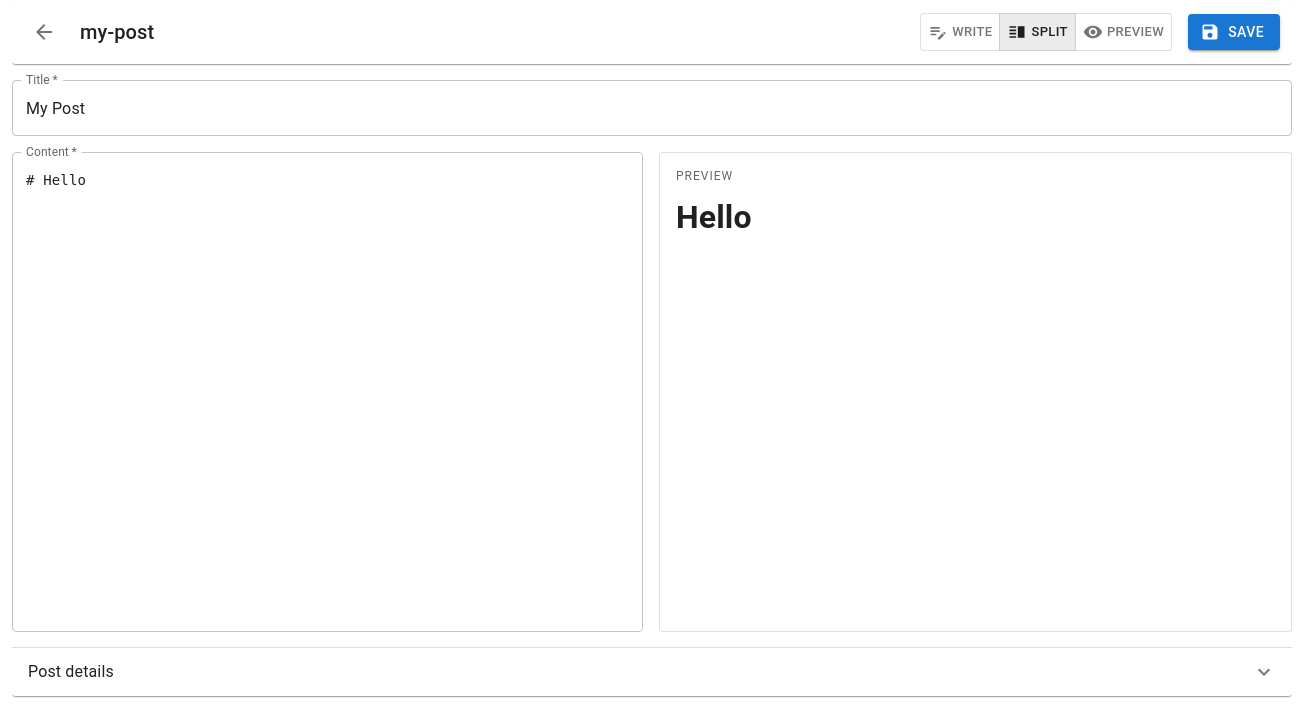
it: EditPost page › loads the metadata and the markdown of an existing post
The image size is (1304, 720).
Check: the field showing "My Post" is shown, box [12,80,1292,136]
Check: the text box showing "# Hello" is shown, box [26,168,629,616]
Click the button "Post details". click: (71, 672)
box: [12,648,1292,696]
(page scrolled)
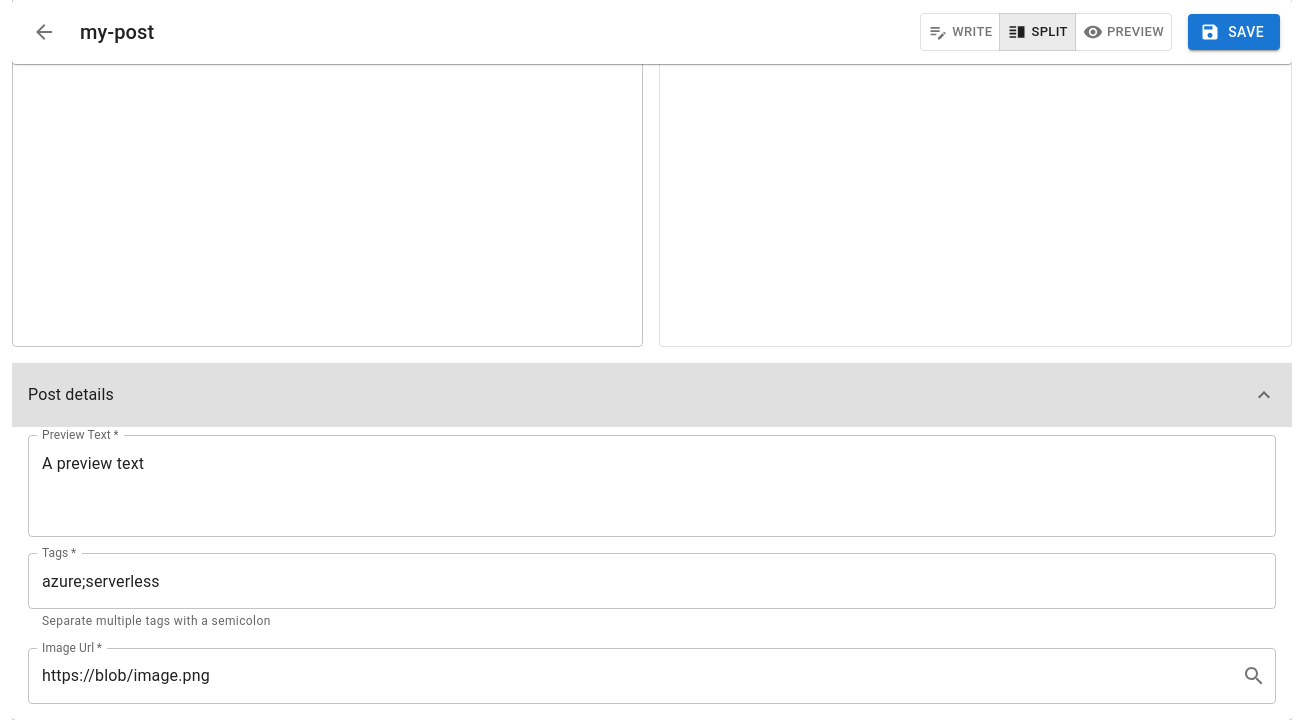
Check: the field showing "azure;serverless" is shown, box [28,553,1276,609]
Check: the text box showing "A preview text" is shown, box [42,452,1262,520]
Check: the button named "Search image" is shown, box [1234,656,1274,696]
